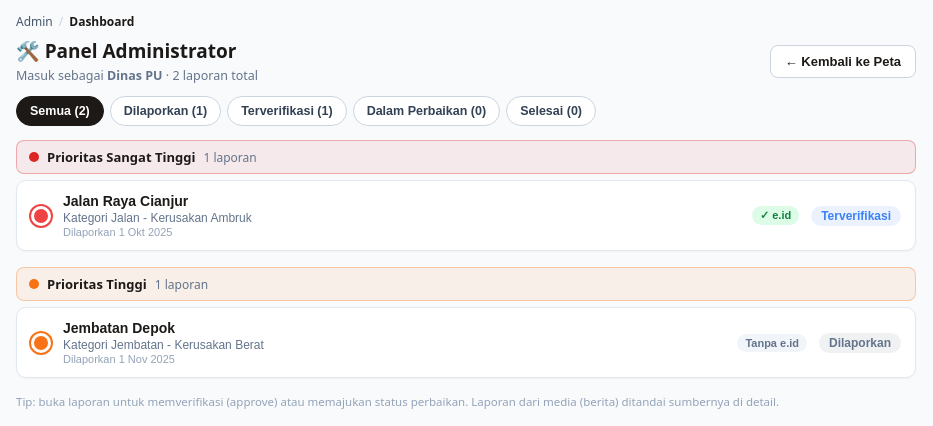
Test: AdminView: panel otoritas (organize + verifikasi + tracking status) › tab filter status menyaring laporan
The image size is (933, 426).
Click the button "Terverifikasi (1)" at (287, 111), box [227,96,347,126]
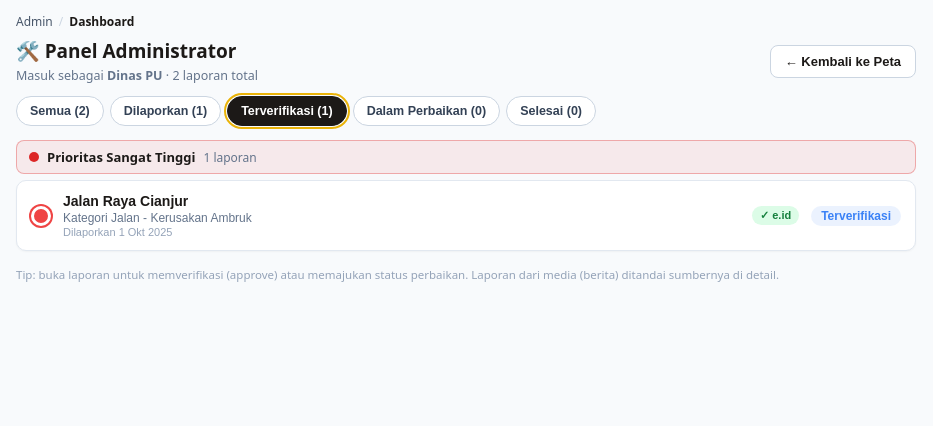
Expected: the text "Jalan Raya Cianjur" is shown, [63,193,188,209]
Now the button "Jembatan Depok" is gone
